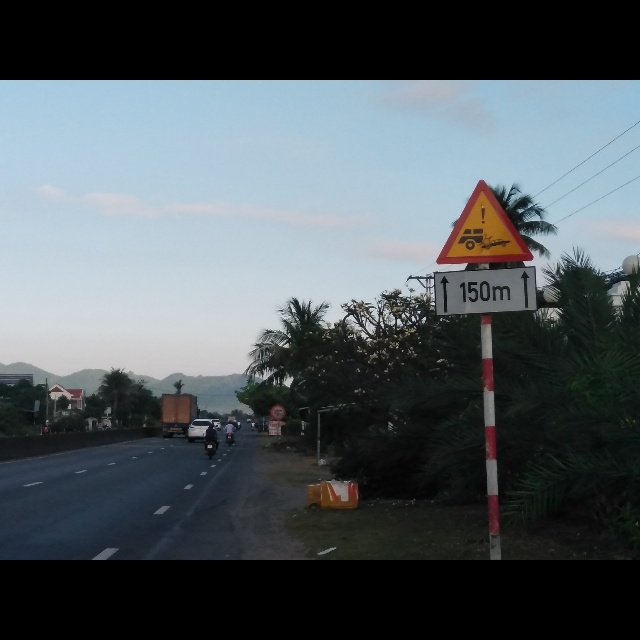Đoạn đường hay xảy ra tai nạn: (436, 175, 534, 265)
